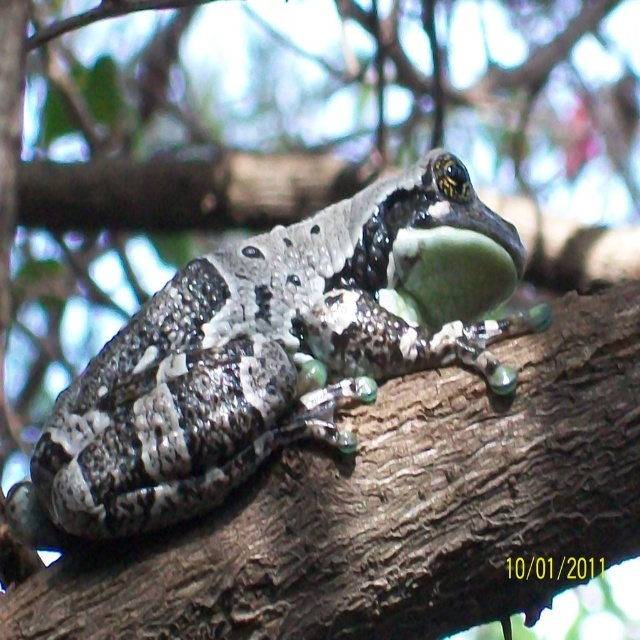Frog: (4, 146, 550, 554)
